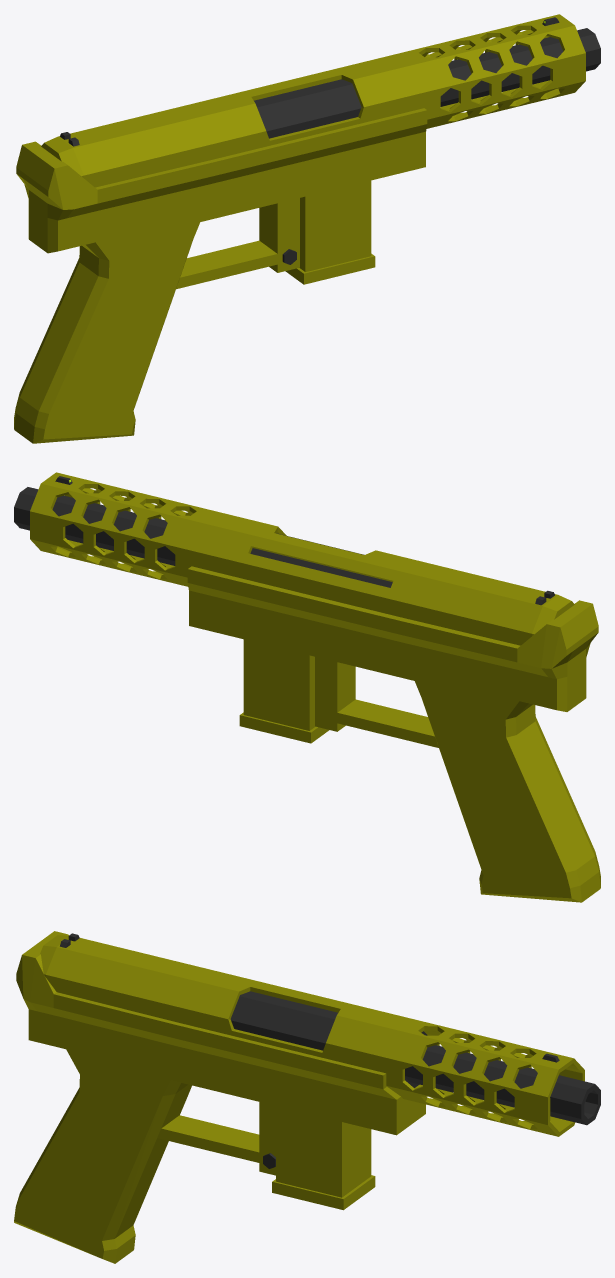
The model's file is Pistol6_05.fbx.
3 views of the same model, one above another, from view 1: azimuth 30°, elevation 25°; view 2: azimuth 150°, elevation 25°; view 3: azimuth 330°, elevation 25° (orthographic).
Visible parts, largest first — view 1: Pistol6_05; view 2: Pistol6_05; view 3: Pistol6_05.
Part boxes in pixels (x1,y1,x2,y2): Pistol6_05: [14, 14, 600, 443]; Pistol6_05: [14, 472, 600, 902]; Pistol6_05: [14, 931, 600, 1263].
Bounding box in the file's own units: 0.3373 × 0.1735 × 0.0451.
